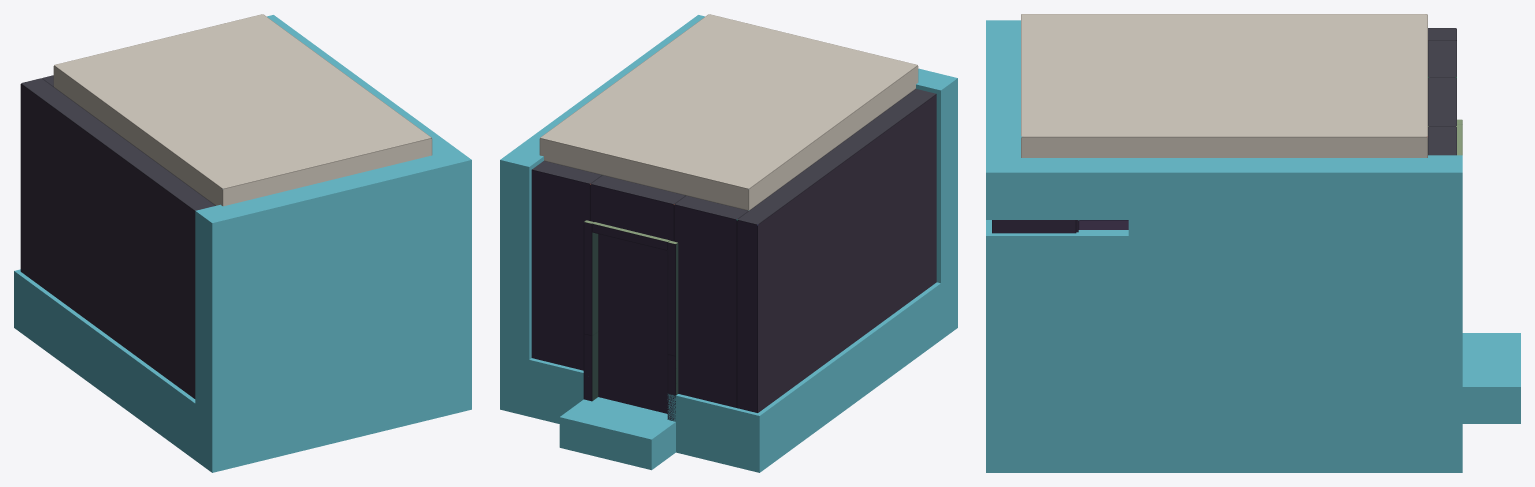
The model's file is Restroom.fbx.
3 renders of one model, left to right at view 1: azimuth 30°, elevation 25°; view 2: azimuth 150°, elevation 25°; view 3: azimuth 270°, elevation 25°, orthographic. The views are drawn at different scales.
Parts seen in each view (by area): view 1: map border, cuboid_4, wall behind_7; view 2: cuboid_4, wall behind_7, map border, wall behind_6, door, wall behind_5, frames_2, wall behind_8, frames_1; view 3: map border, cuboid_4, wall behind_8, wall behind_11, wall behind_6, wall behind_5.
Boxes of the visible parts, box(x1,y1,x2,y2) form: map border: box(14, 15, 471, 472); cuboid_4: box(53, 14, 432, 206); wall behind_7: box(20, 78, 215, 398); cuboid_4: box(539, 14, 918, 210); wall behind_7: box(737, 89, 936, 412); map border: box(500, 15, 957, 472); wall behind_6: box(674, 195, 748, 407); door: box(598, 234, 667, 413); wall behind_5: box(531, 161, 601, 370); frames_2: box(583, 220, 678, 420); wall behind_8: box(590, 175, 685, 242); frames_1: box(583, 331, 677, 419); map border: box(986, 20, 1520, 472); cuboid_4: box(1021, 14, 1427, 157); wall behind_8: box(1428, 77, 1456, 126); wall behind_11: box(992, 220, 1076, 233); wall behind_6: box(1428, 40, 1456, 77); wall behind_5: box(1428, 126, 1456, 155).
Bounding box in the file's own units: 775 × 762 × 1150.
Materials: 14 (14 with a texture image).
